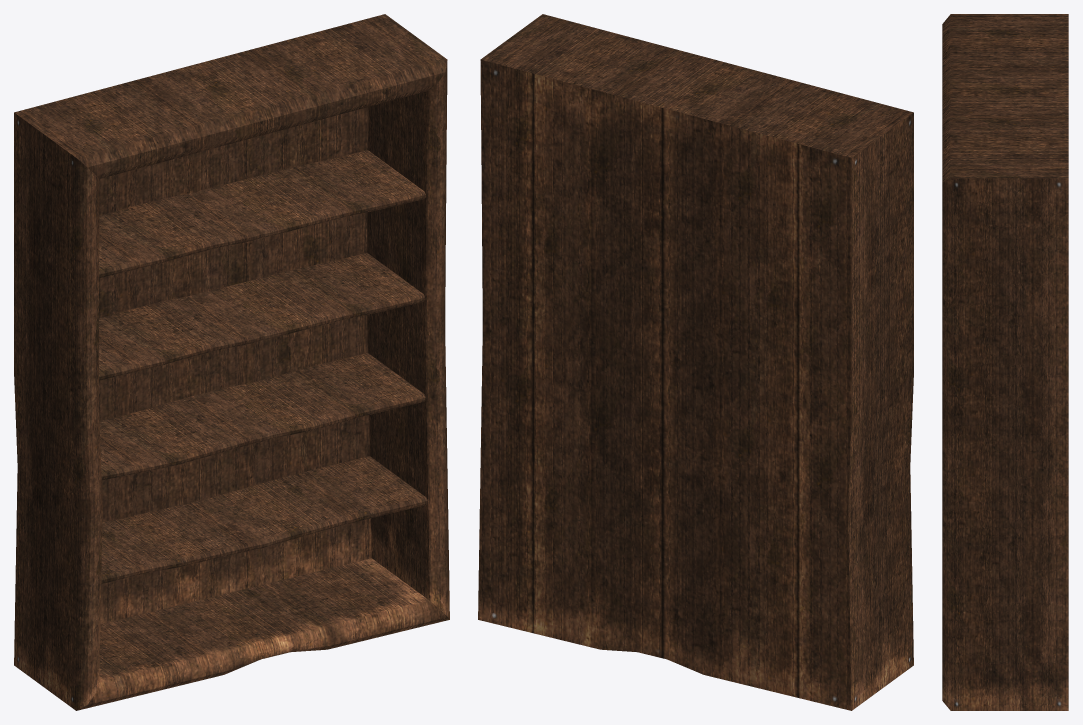
File: SHELF FBX.FBX
The picture shows the model from 3 angles, left to right: view 1: azimuth 30°, elevation 25°; view 2: azimuth 150°, elevation 25°; view 3: azimuth 270°, elevation 25°; orthographic projection. The views are drawn at different scales.
Parts seen in each view (by area): view 1: SHELF; view 2: SHELF; view 3: SHELF.
Part boxes in pixels (box(x1,y1,x2,y2)): SHELF: box(14, 14, 449, 710); SHELF: box(478, 14, 913, 710); SHELF: box(942, 14, 1068, 710).
Size of the model in its own units: 3.67 by 5.26 by 1.14.
